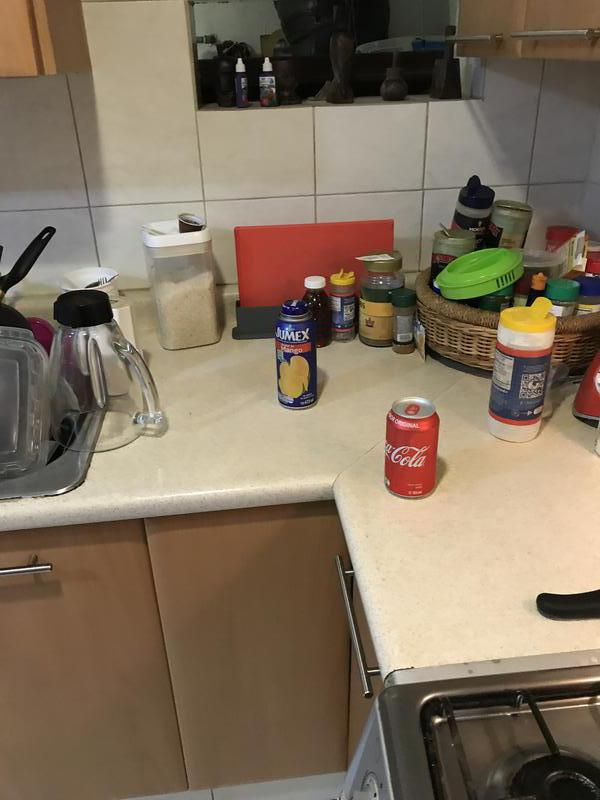coca_cola: (384, 398, 436, 499)
jugo_jumex: (272, 300, 320, 412)
